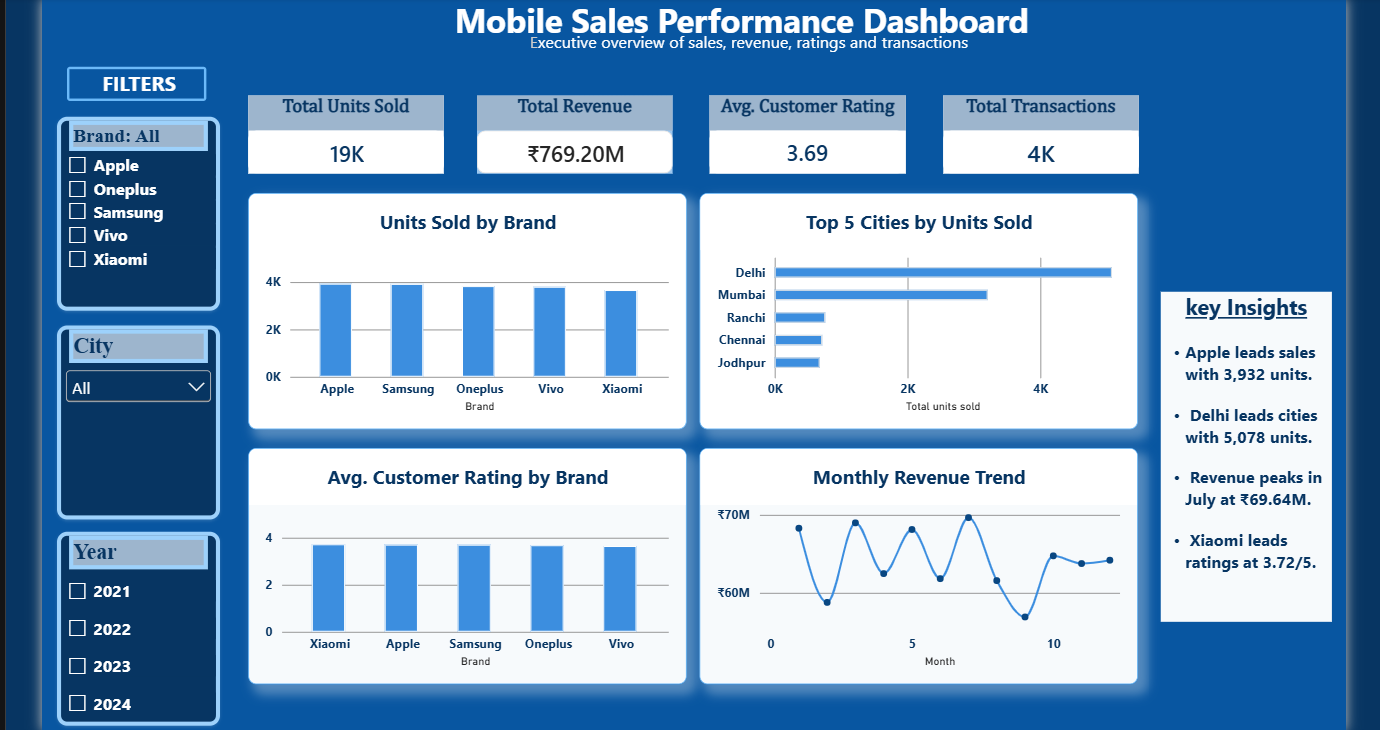

What the dashboard file says about the page in this screenshot:
{"tool":"powerbi","page":{"name":"Executive Overview","canvas":[1280,720],"ordinal":0},"visuals":[{"type":"cardVisual","title":"Total Units Sold","fields":{"Data":["customer_details.total units sold"]},"box":[202.9,95.7,192,77],"z":0},{"type":"cardVisual","title":"Total Revenue","fields":{"Data":["customer_details.Total Revenue"]},"box":[427.1,95.7,192,77],"z":1000},{"type":"cardVisual","title":"Total Transactions","fields":{"Data":["customer_details.Total Transactions"]},"box":[884.3,95.7,192,77],"z":2000},{"type":"cardVisual","title":"Avg. Customer Rating","fields":{"Data":["customer_details.Average Rating"]},"box":[655.7,95.7,192.9,77.1],"z":3000},{"type":"clusteredColumnChart","title":" Units Sold by Brand","fields":{"Category":["customer_details.Brand"],"Y":["customer_details.total units sold"]},"box":[202,192,430,232],"z":4000},{"type":"clusteredBarChart","title":"Top 5 Cities by Units Sold","fields":{"Y":["customer_details.total units sold"],"Category":["customer_details.City"]},"box":[646,192,430,232],"z":5000},{"type":"lineChart","title":"Monthly Revenue Trend","fields":{"Y":["customer_details.Total Revenue"],"Category":["customer_details.Month"]},"box":[645.7,441.4,430,232],"z":6000},{"type":"clusteredColumnChart","title":"Avg. Customer Rating by Brand","fields":{"Y":["customer_details.Average Rating"],"Category":["customer_details.Brand"]},"box":[202,442,430,232],"z":7000},{"type":"slicer","fields":{"Values":["customer_details.Brand"]},"box":[14.3,117.1,160,190],"z":8000},{"type":"slicer","fields":{"Values":["customer_details.City"]},"box":[14.3,321.4,160,190],"z":9000},{"type":"textbox","box":[300,0,775,67.5],"z":10000},{"type":"textbox","box":[317.5,32.5,752.5,85],"z":11000},{"type":"slicer","fields":{"Values":["customer_details.Year"]},"box":[14.3,524.3,160,190],"z":12000},{"type":"textbox","title":"FILTERS","box":[24.1,67.4,137.1,33.7],"z":13000},{"type":"textbox","box":[1098,288,168,324],"z":14000}]}

Visuals, with their boxes on the page's 1280x720 design canvas (x1, y1, x2, y2). These are canvas units, not pixel positions in the 1380x730 screenshot, which may show the page scaled, cropped or inside an application window:
"Total Units Sold" cardVisual: rect(203, 96, 395, 173)
"Total Revenue" cardVisual: rect(427, 96, 619, 173)
"Total Transactions" cardVisual: rect(884, 96, 1076, 173)
"Avg. Customer Rating" cardVisual: rect(656, 96, 849, 173)
" Units Sold by Brand" clusteredColumnChart: rect(202, 192, 632, 424)
"Top 5 Cities by Units Sold" clusteredBarChart: rect(646, 192, 1076, 424)
"Monthly Revenue Trend" lineChart: rect(646, 441, 1076, 673)
"Avg. Customer Rating by Brand" clusteredColumnChart: rect(202, 442, 632, 674)
slicer - customer_details.Brand: rect(14, 117, 174, 307)
slicer - customer_details.City: rect(14, 321, 174, 511)
textbox: rect(300, 0, 1075, 68)
textbox: rect(318, 32, 1070, 118)
slicer - customer_details.Year: rect(14, 524, 174, 714)
"FILTERS" textbox: rect(24, 67, 161, 101)
textbox: rect(1098, 288, 1266, 612)
